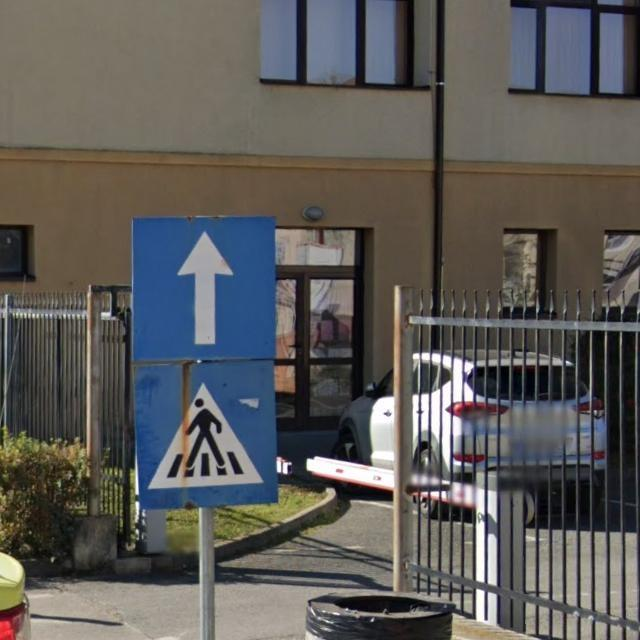info_crosswalk: (134, 357, 282, 505)
